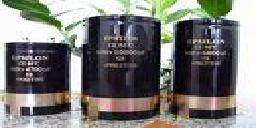Electrolytic-Capacitor: (81, 7, 165, 119), (172, 18, 237, 123), (2, 33, 72, 120)
